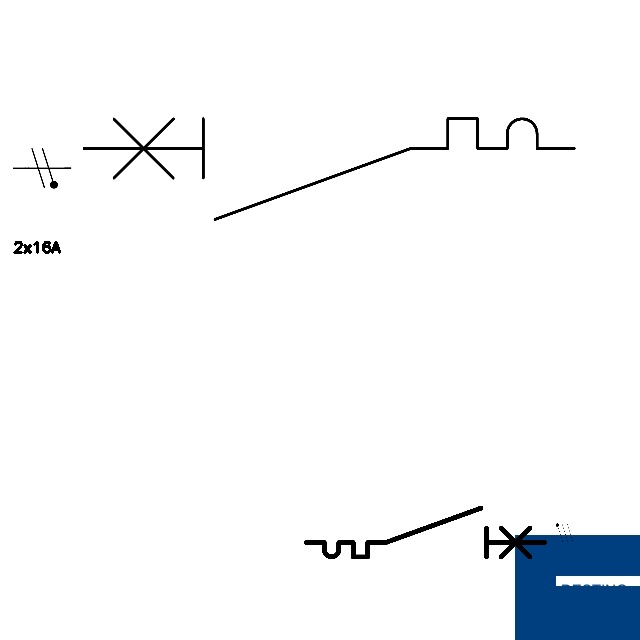interruptor_termomagnetico: (71, 106, 586, 232), (300, 502, 550, 563)
